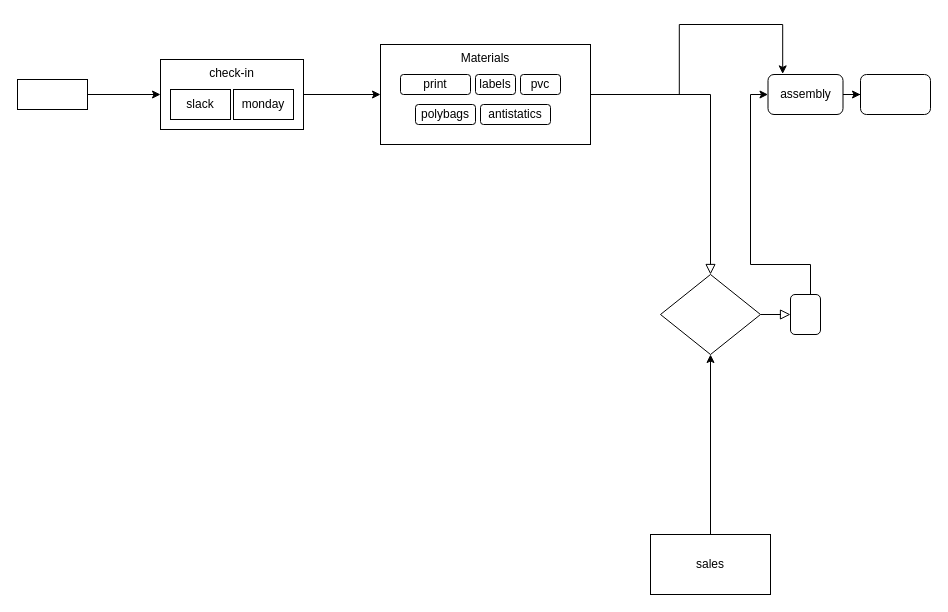
Some shapes in this 948 by 612 pixel diagram are drawn without their labels. Each missing label, with the centre of its shape:
fulfillment: point 895,94
press: point 710,314
qc: point 805,314
receiving: point 52,94
